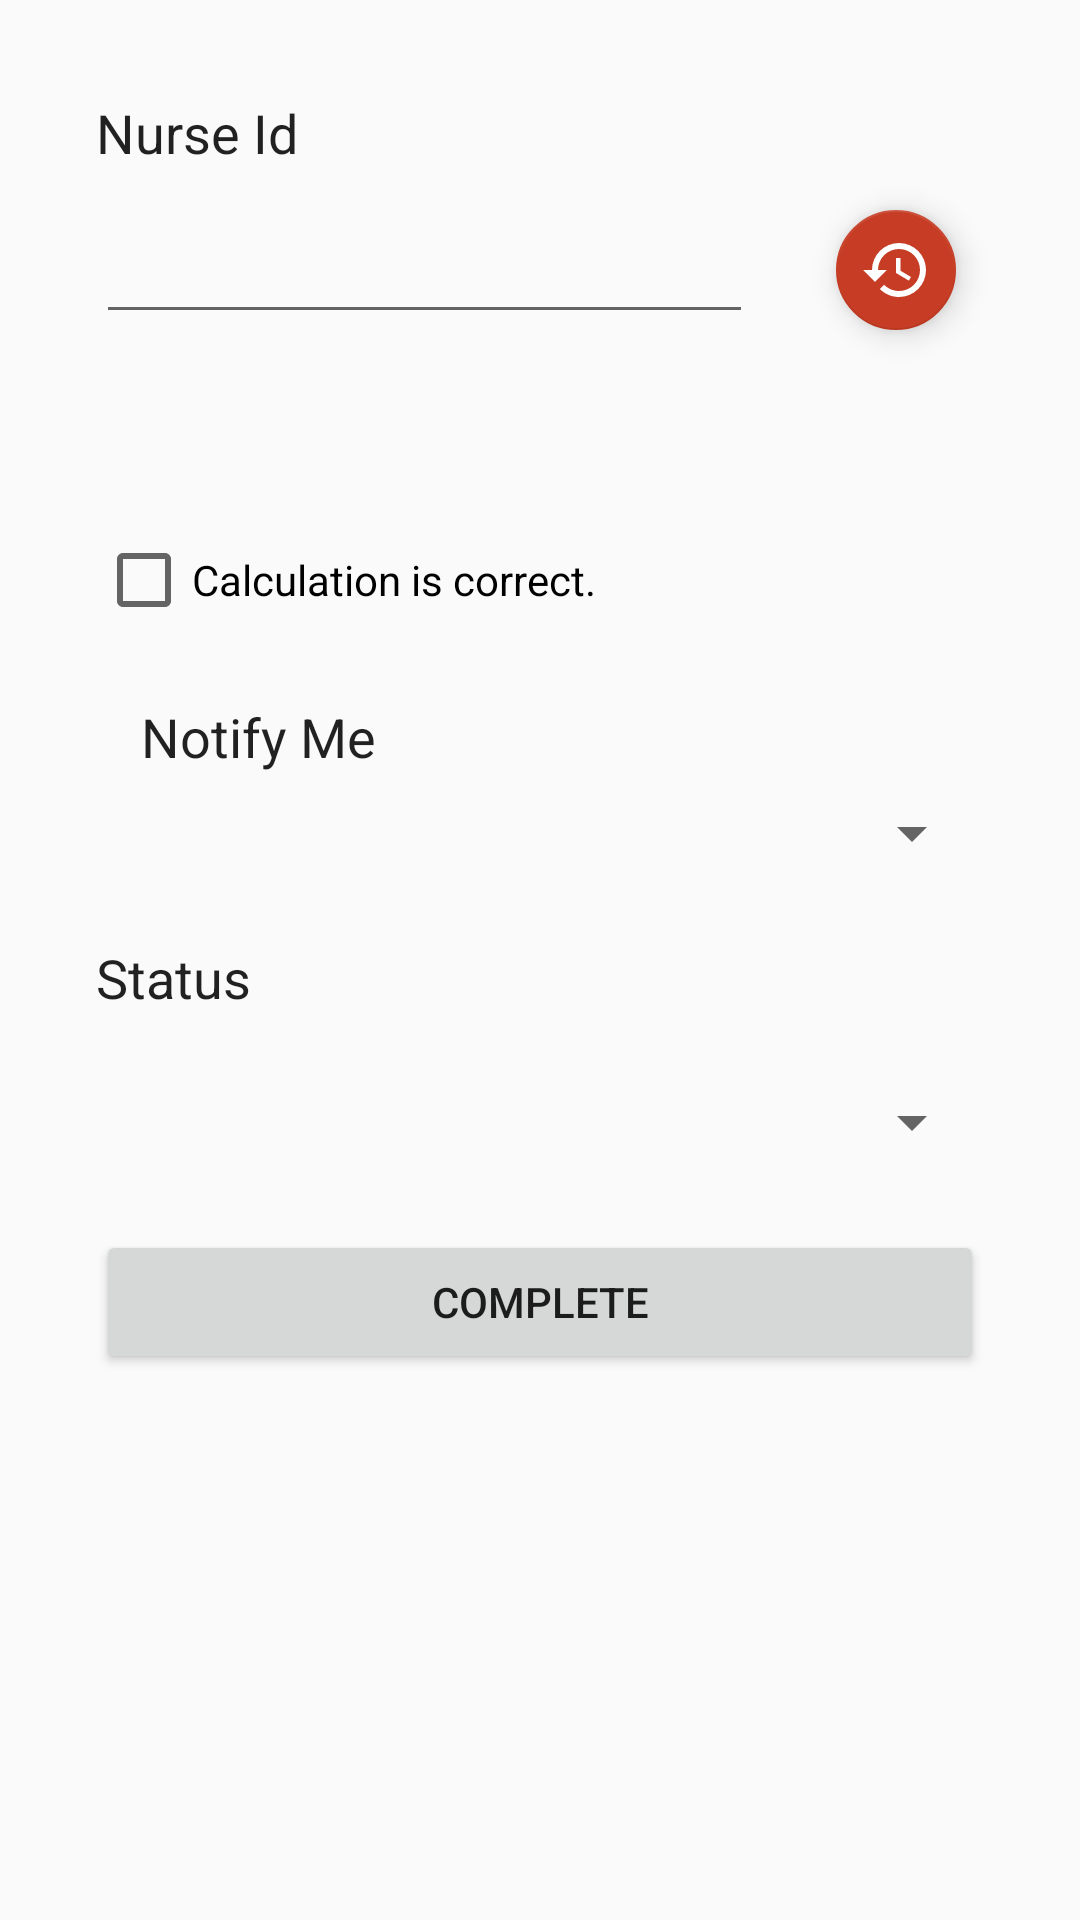

Where icons sit on this 1080×1920 app screen, as {"x1": x1, "y1": y1, "x2": x2, "y2": y2}:
update: {"x1": 836, "y1": 210, "x2": 956, "y2": 330}
